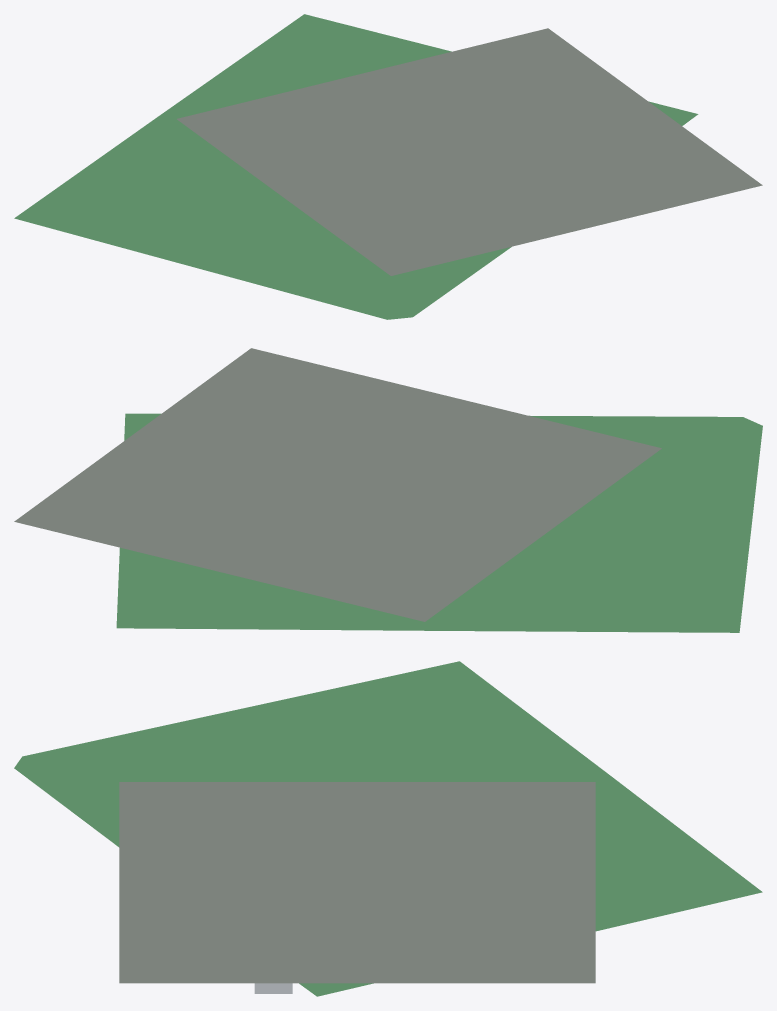
3 renders of one model, top to bottom at view 1: azimuth 30°, elevation 25°; view 2: azimuth 150°, elevation 25°; view 3: azimuth 270°, elevation 25°, orthographic. The views are drawn at different scales.
Bounding box in the file's own units: 213 × 10.82 × 201.
